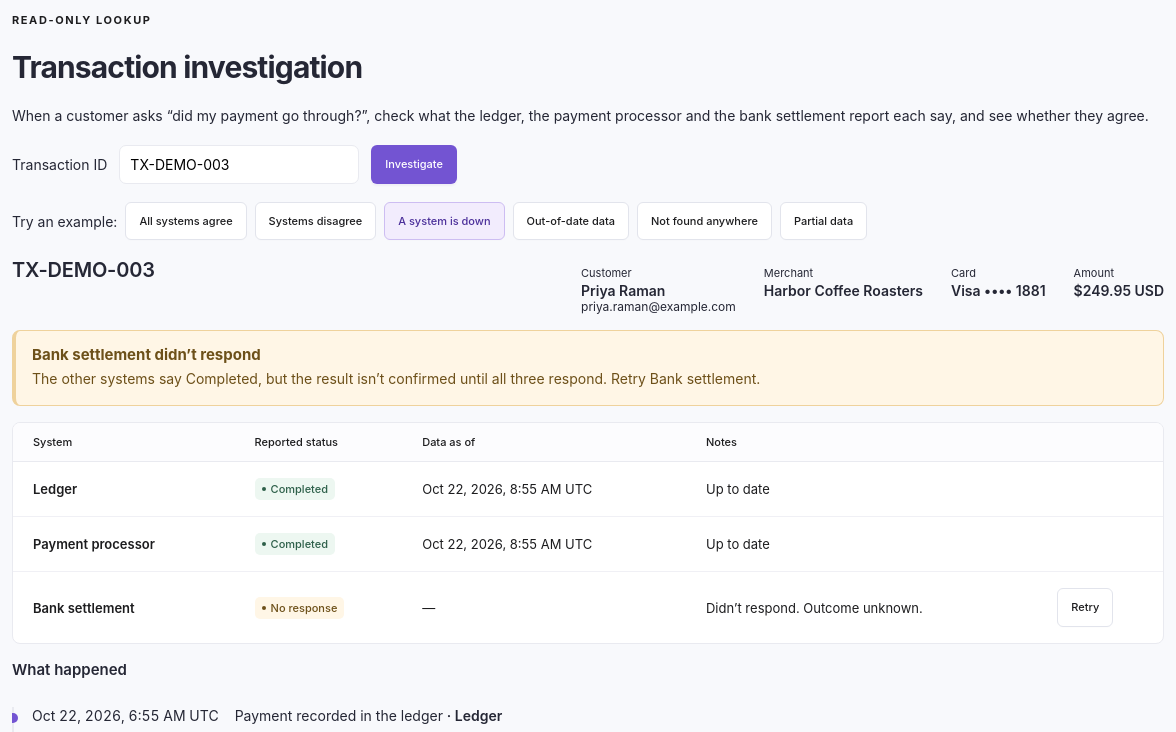
Test: Investigation read-only extension (jsdom, not browser E2E) › makes fixture 005 (Not found anywhere) reachable in one click with a plain verdict
Click the button "Not found anywhere": coordinates (704, 221) [637,202,772,240]
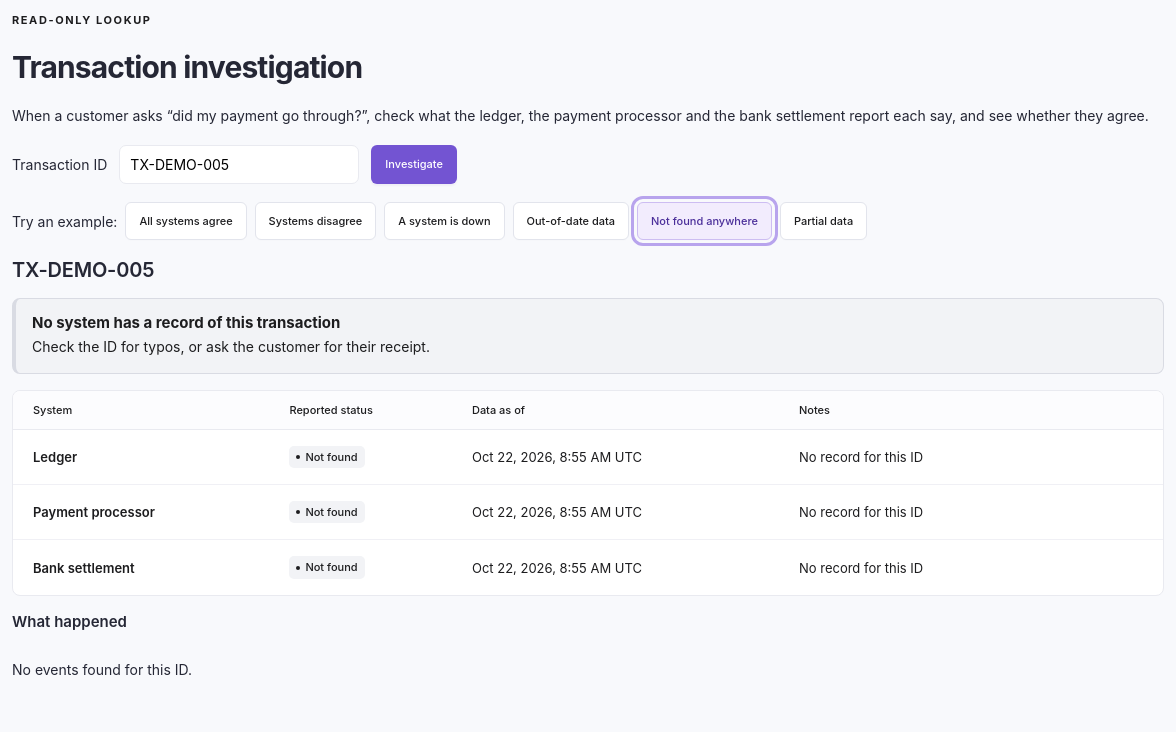
Check: the heading "TX-DEMO-005" is shown, box [12,258,154,282]
Check: the message shows "No system has a record of this transaction", box [32,314,340,332]
Check: the text "Amount" is gone
